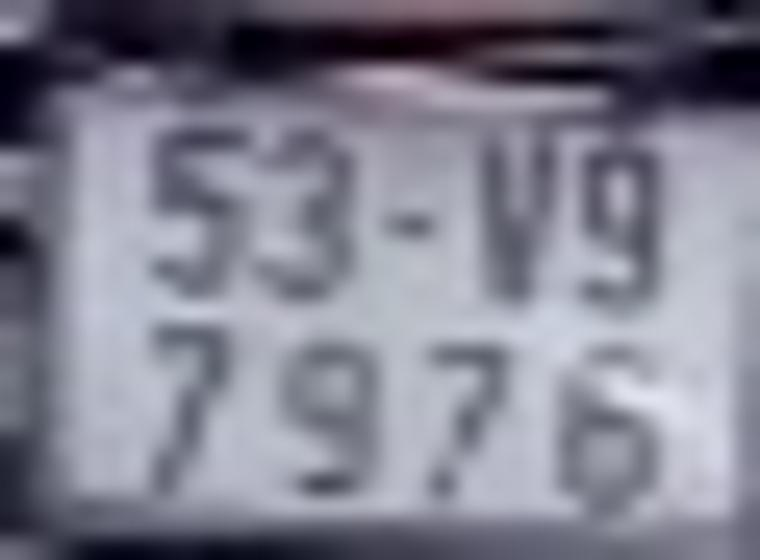-: (374, 199, 448, 246)
3: (256, 127, 366, 307)
5: (140, 120, 259, 304)
6: (551, 338, 671, 513)
7: (139, 322, 230, 502), (428, 336, 508, 501)
9: (286, 341, 384, 495), (588, 144, 669, 311)
V: (471, 134, 571, 309)
